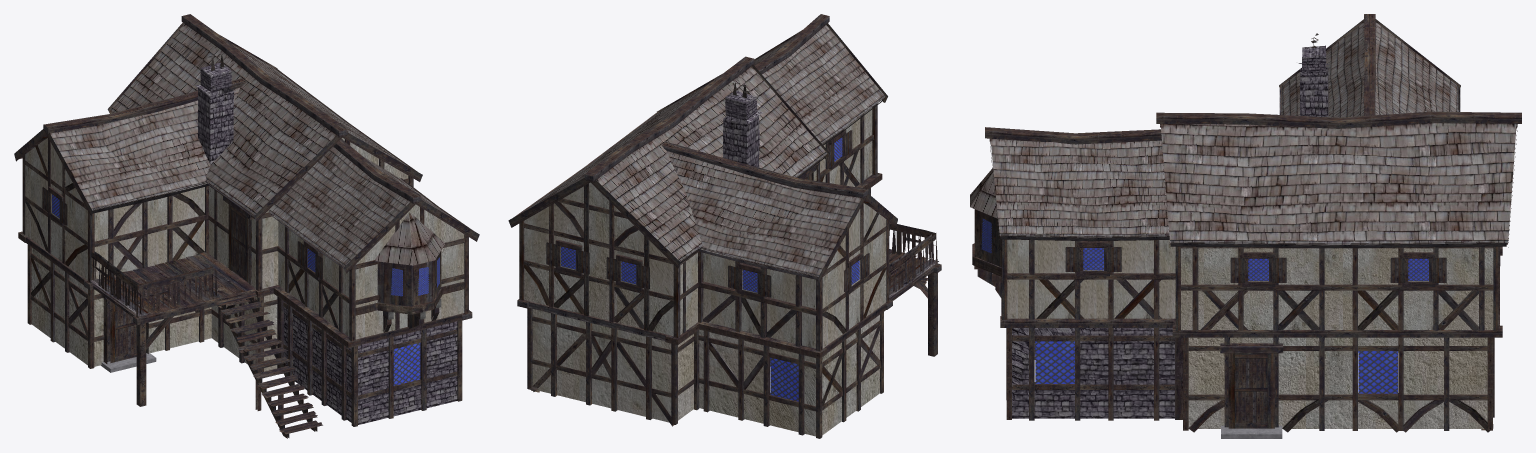
Rendered from casa_medieval_02-lod.glb.
3 views of the same model, side by side, from view 1: azimuth 30°, elevation 25°; view 2: azimuth 150°, elevation 25°; view 3: azimuth 270°, elevation 25° (orthographic). The views are drawn at different scales.
Visible parts, largest first — view 1: BackBalcony; view 2: BackBalcony; view 3: BackBalcony.
Part boxes in pixels (bbox=[...]): BackBalcony: bbox=[14, 14, 479, 438]; BackBalcony: bbox=[508, 14, 941, 438]; BackBalcony: bbox=[970, 14, 1521, 438].
Size of the model in its own units: 9.53 by 8.87 by 13.49.
Materials: 12 (12 with a texture image).
